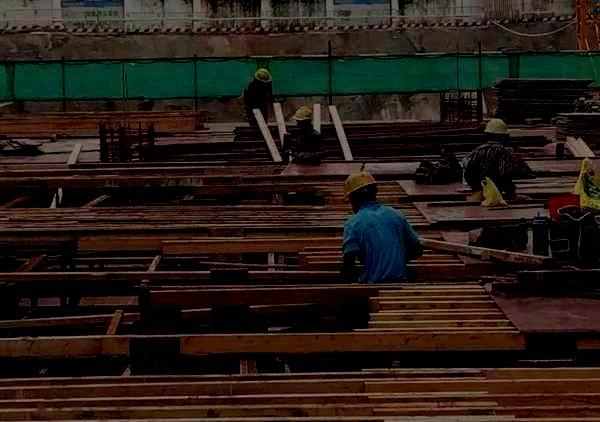helmet: (343, 172, 380, 214), (484, 118, 511, 143), (293, 105, 314, 130), (255, 67, 274, 89)
